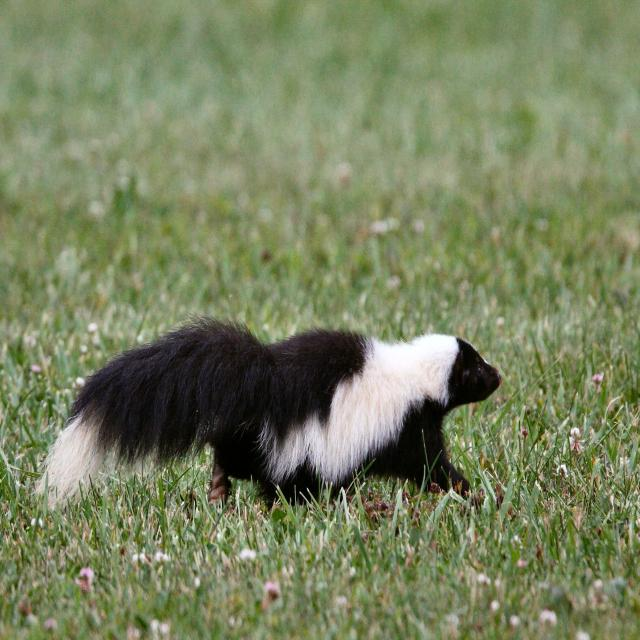Skunk: (33, 300, 526, 531)
